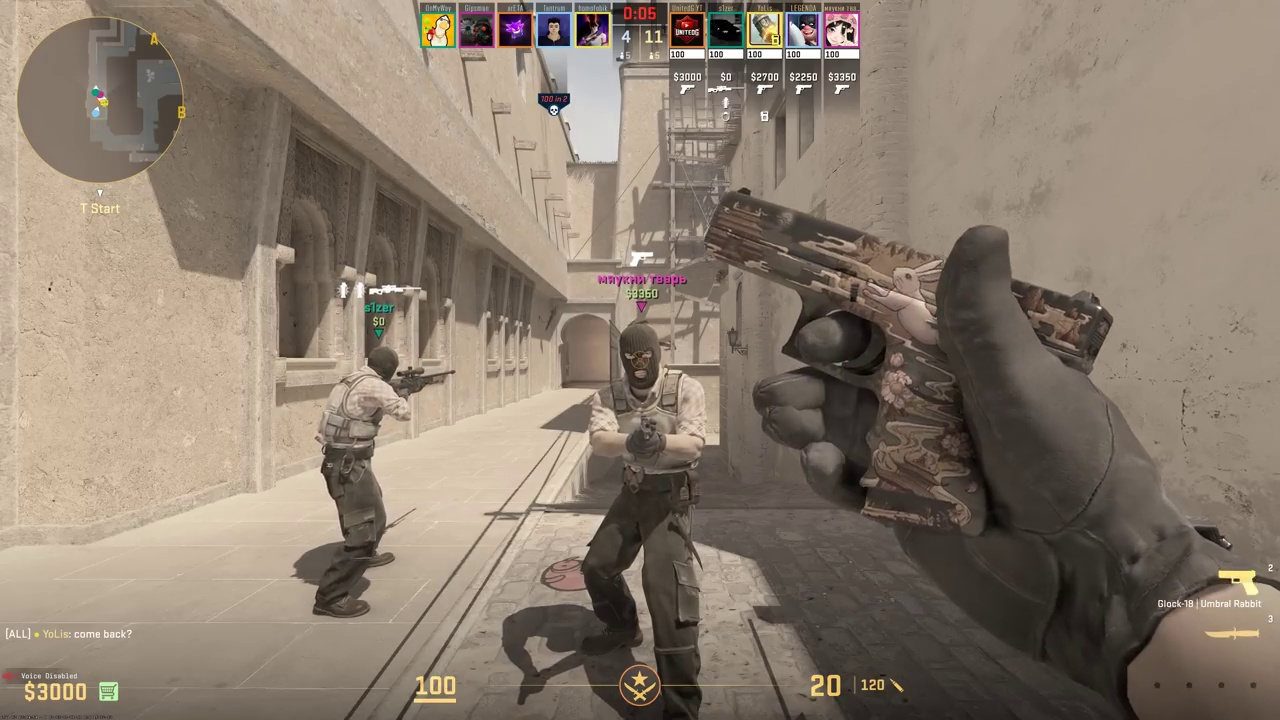Terrorist: (589, 323, 705, 719), (316, 344, 408, 611)
